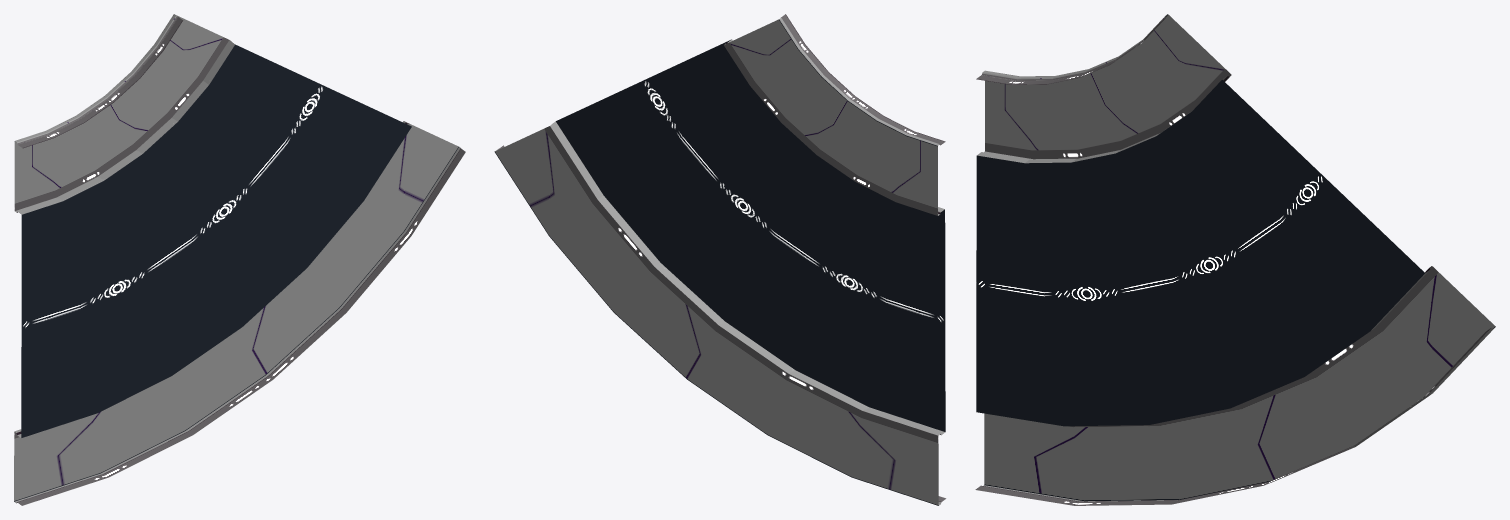
The model's file is SM_S_Road90 1.fbx.
3 views of the same model, side by side, from view 1: azimuth 30°, elevation 25°; view 2: azimuth 150°, elevation 25°; view 3: azimuth 330°, elevation 25° (orthographic). The views are drawn at different scales.
Visible parts, largest first — view 1: SM_S_Road90; view 2: SM_S_Road90; view 3: SM_S_Road90.
Boxes of the visible parts, x1,y1,x2,y2 form: SM_S_Road90: (14,14,465,505); SM_S_Road90: (494,14,946,505); SM_S_Road90: (975,14,1495,505).
Bounding box in the file's own units: 3814 × 119 × 3674.
